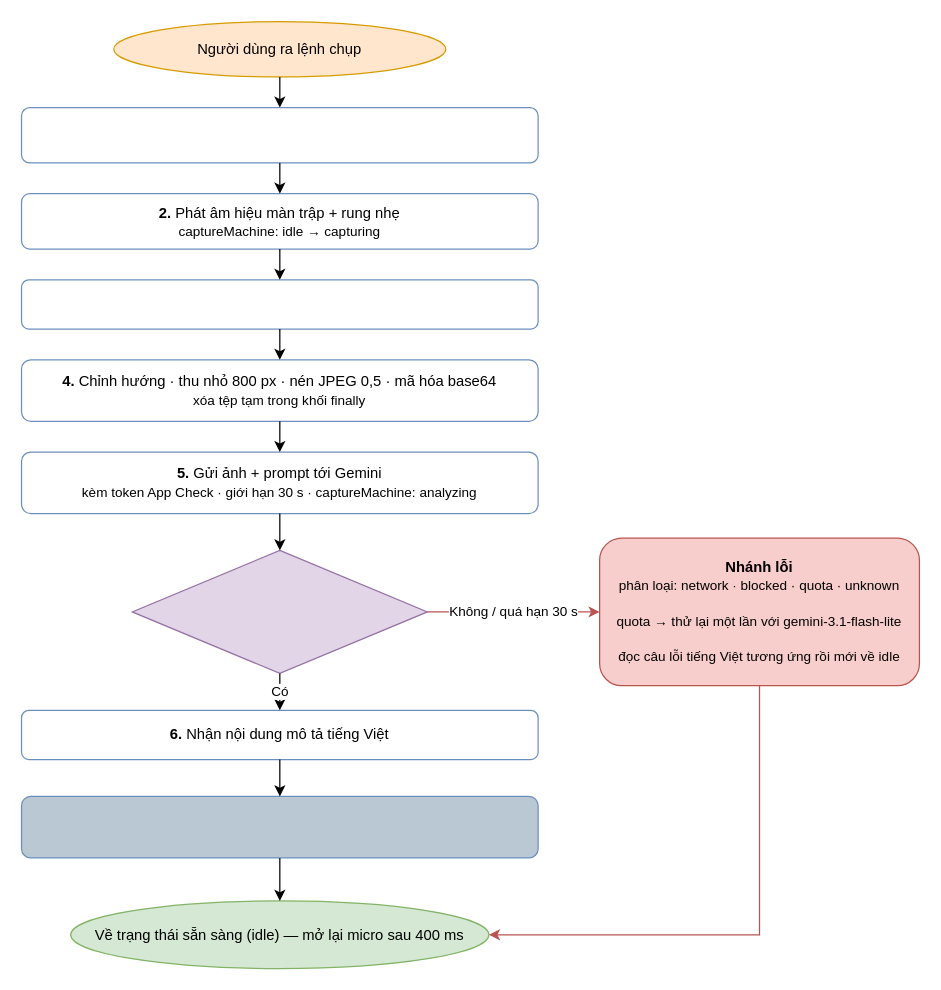
The diagram is 941 pixels wide and 990 high, and some of its shapes have lost their labels. The centre of each missing label's shape, as x and y in pixels:
1. Nhận lệnh: khẩu lệnh "chụp ảnh" · phím âm lượng · nút chụp · thư viện ảnh: point 279,134
3. Chụp ảnh hoặc chọn ảnh từ thư viện: point 279,304
7. Đọc kết quả bằng TTS qua speakExclusive captureMachine: speaking: point 279,826
Nhận được mô tả?: point 279,611
